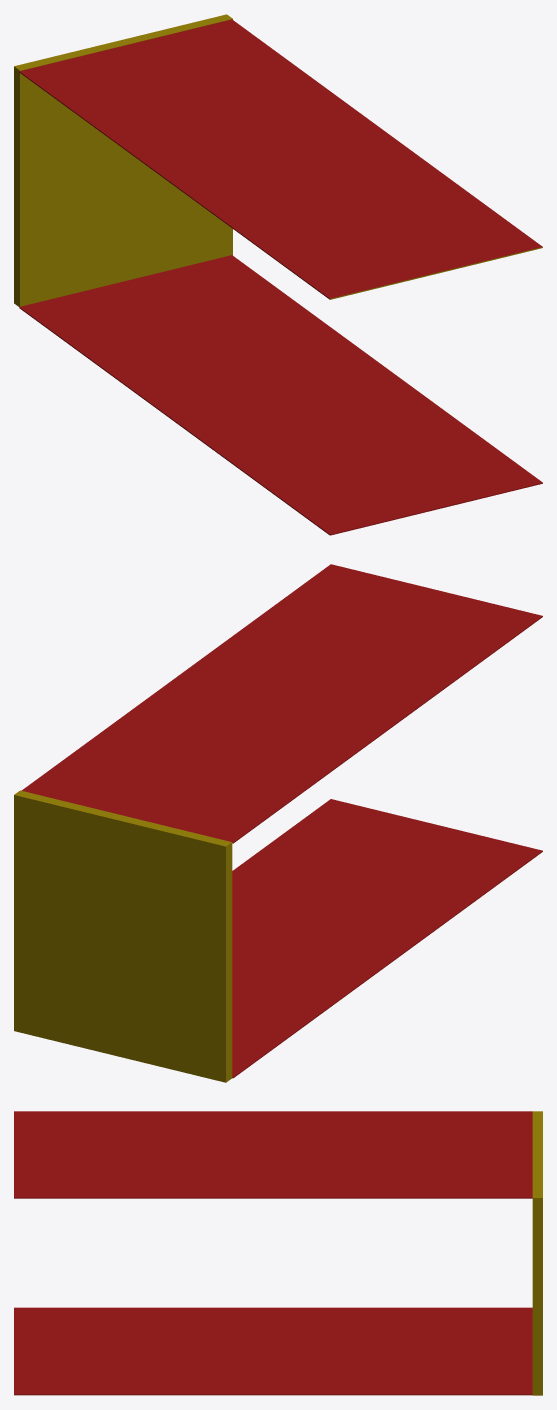
The model's file is 3m-height.dae.
3 renders of one model, top to bottom at view 1: azimuth 30°, elevation 25°; view 2: azimuth 150°, elevation 25°; view 3: azimuth 270°, elevation 25°, orthographic. The views are drawn at different scales.
Visible parts, largest first — view 1: Plane_002_003_001; view 2: Plane_002_003_001; view 3: Plane_002_003_001.
Boxes of the visible parts, x1,y1,x2,y2 form: Plane_002_003_001: (14, 14, 542, 535); Plane_002_003_001: (14, 564, 542, 1082); Plane_002_003_001: (14, 1111, 542, 1395).
Size of the model in its own units: 2.01 by 5.16 by 2.13.
